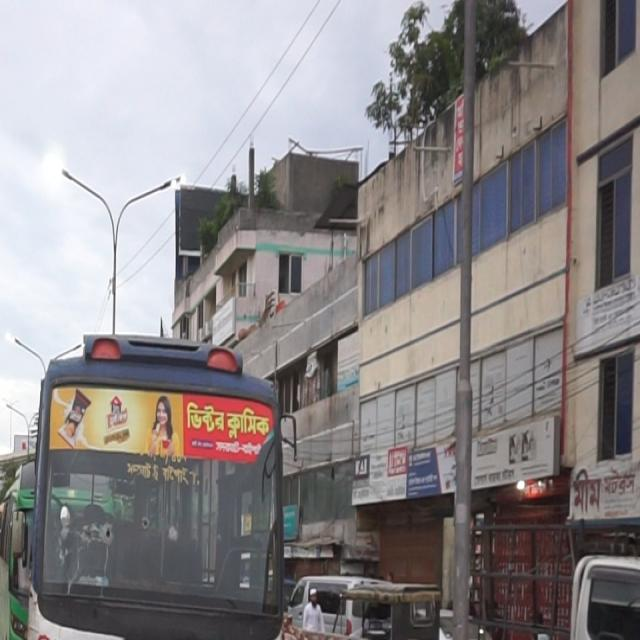bus: (1, 289, 308, 640)
